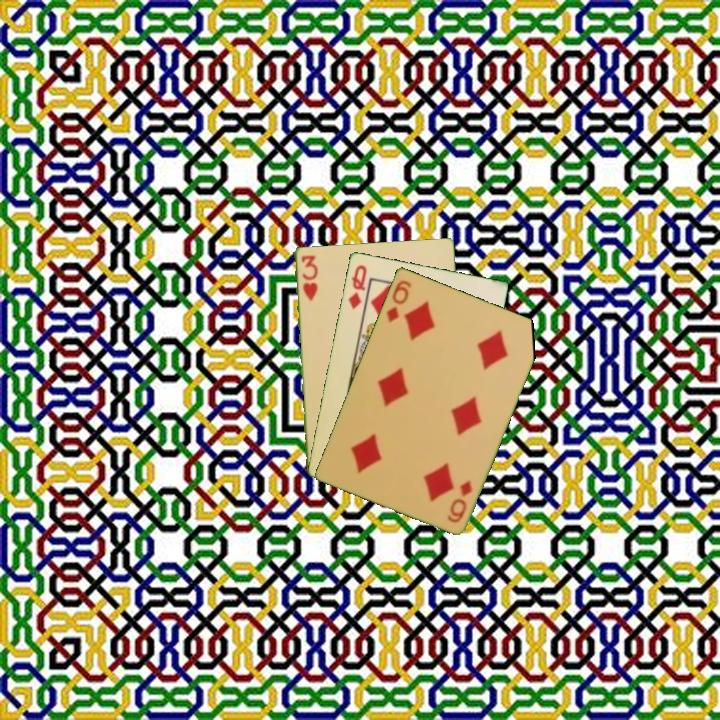3h: (298, 251, 320, 304)
6d: (443, 476, 475, 526), (383, 276, 414, 325)
Qd: (344, 261, 369, 312)
